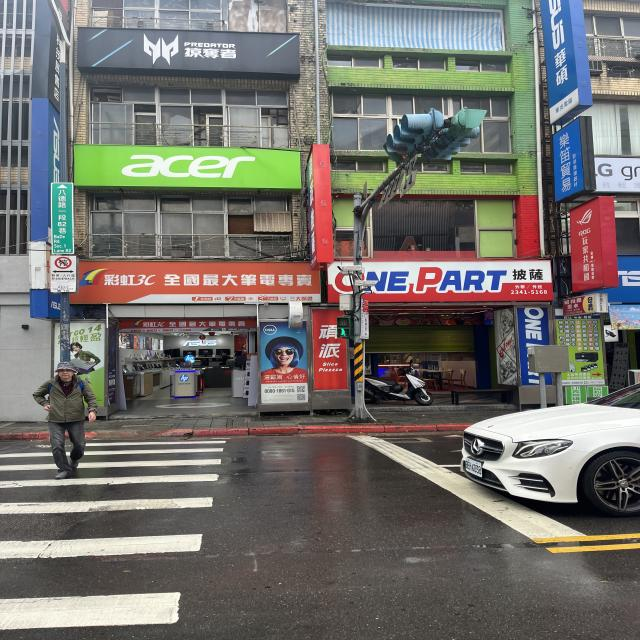green light: (336, 314, 356, 340)
